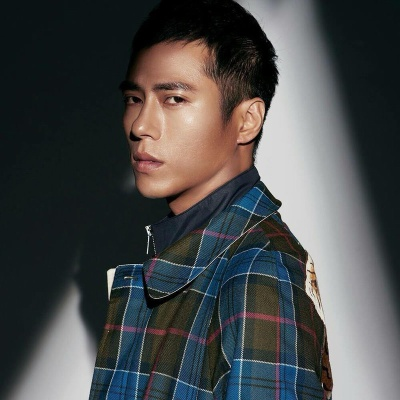male: (121, 6, 271, 210)
